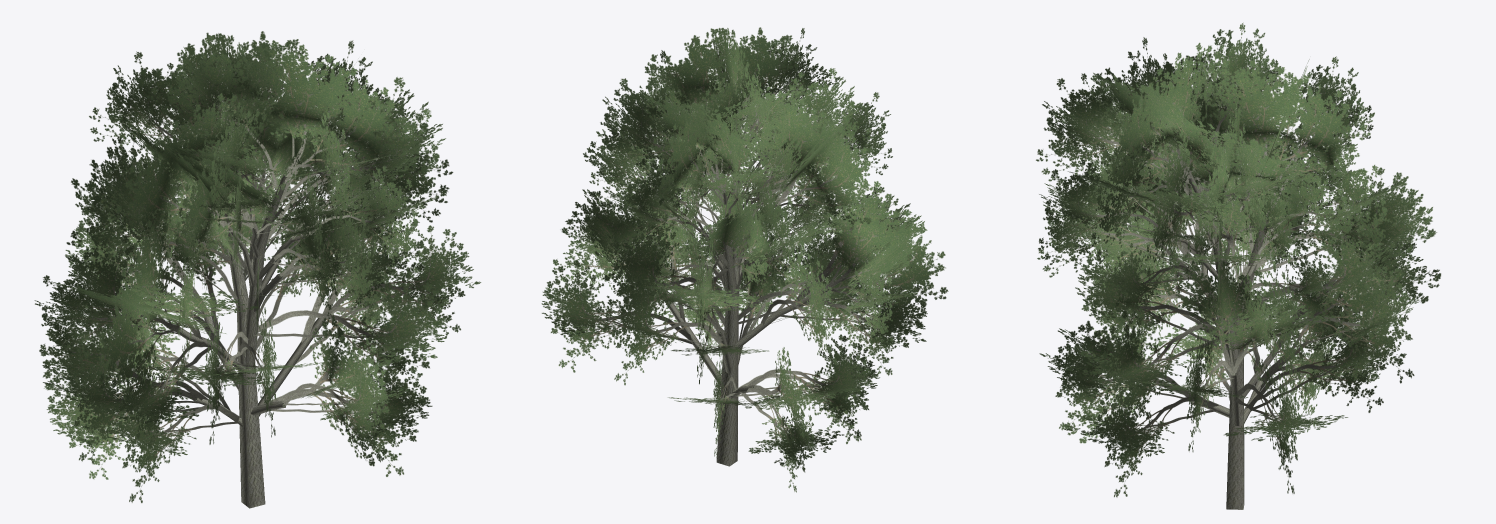
File: Linde.glb
3 views of the same model, side by side, from view 1: azimuth 30°, elevation 25°; view 2: azimuth 150°, elevation 25°; view 3: azimuth 270°, elevation 25° (orthographic). The views are drawn at different scales.
Parts seen in each view (by area): view 1: mesh; view 2: mesh; view 3: mesh.
Part boxes in pixels (x1,y1,x2,y2): mesh: (34, 31, 481, 508); mesh: (541, 27, 948, 492); mesh: (1036, 22, 1441, 509).
Size of the model in its own units: 16.31 by 17.65 by 15.53.
Materials: 1 (1 with a texture image).
